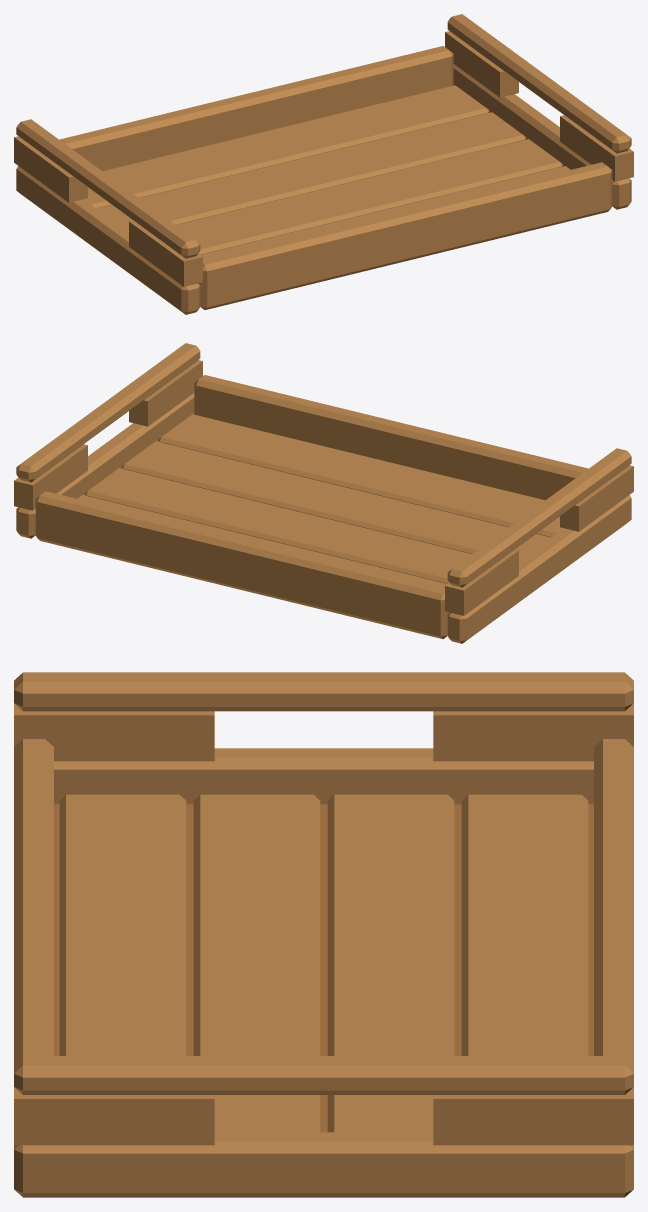
File: serving_tray.glb
3 views of the same model, one above another, from view 1: azimuth 30°, elevation 25°; view 2: azimuth 150°, elevation 25°; view 3: azimuth 270°, elevation 25° (orthographic). The views are drawn at different scales.
Visible parts, largest first — view 1: serving_tray; view 2: serving_tray; view 3: serving_tray.
Part boxes in pixels (box(x1,y1,x2,y2)): serving_tray: box(14, 14, 633, 314); serving_tray: box(14, 343, 633, 643); serving_tray: box(14, 672, 633, 1197).
Size of the model in its own units: 0.52 by 0.08 by 0.34.
